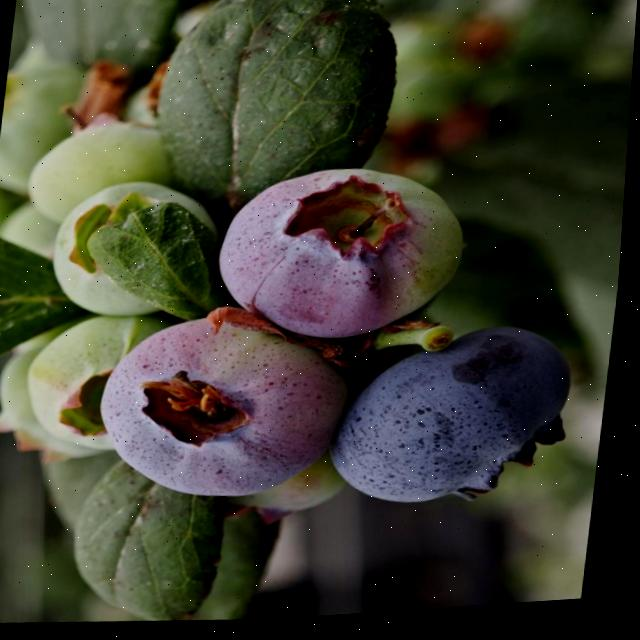RipeBlueBerry: (330, 319, 587, 522)
Semi-RipeBlueBerry: (92, 306, 367, 513), (208, 157, 482, 358)
